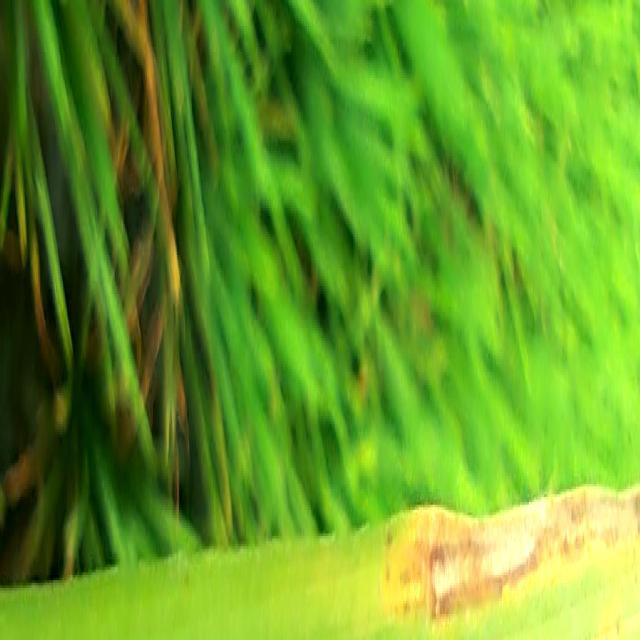LEAF BLAST: (428, 493, 640, 623), (604, 636, 608, 640)
